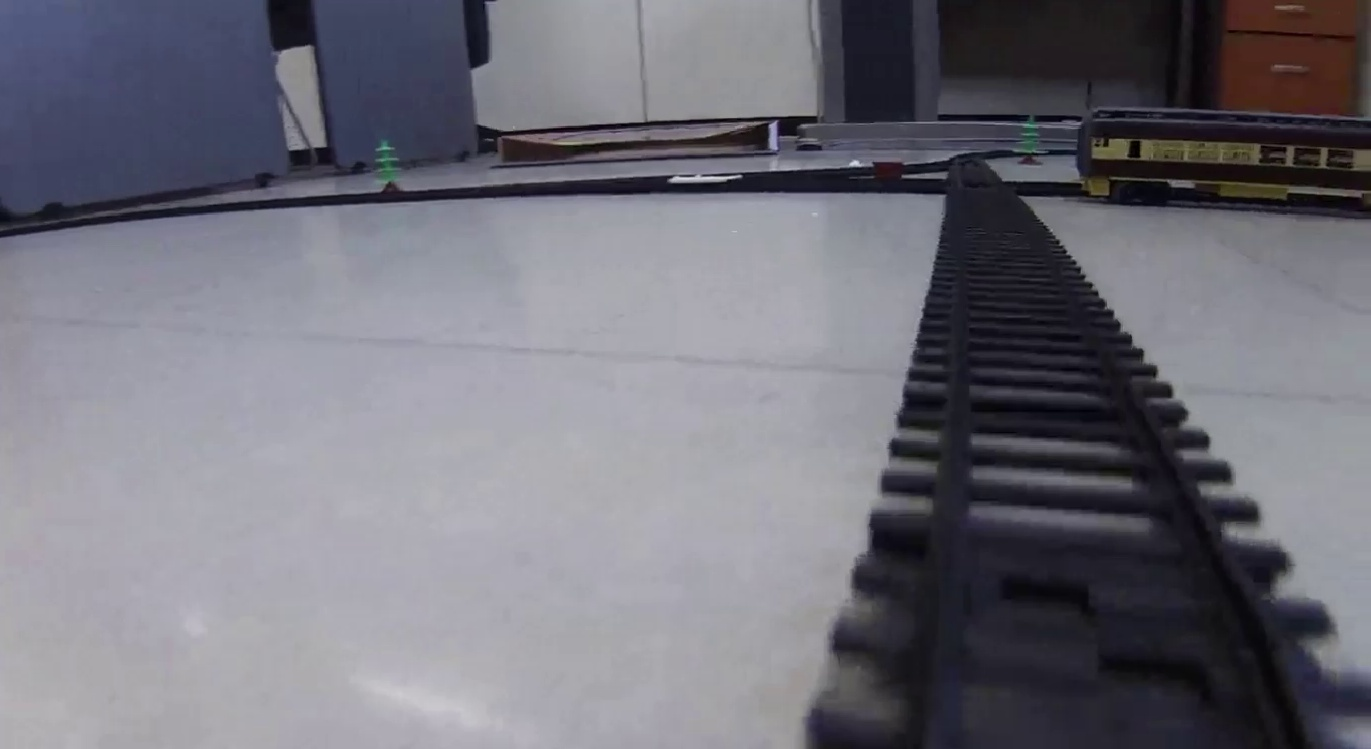tree: (370, 138, 404, 191)
